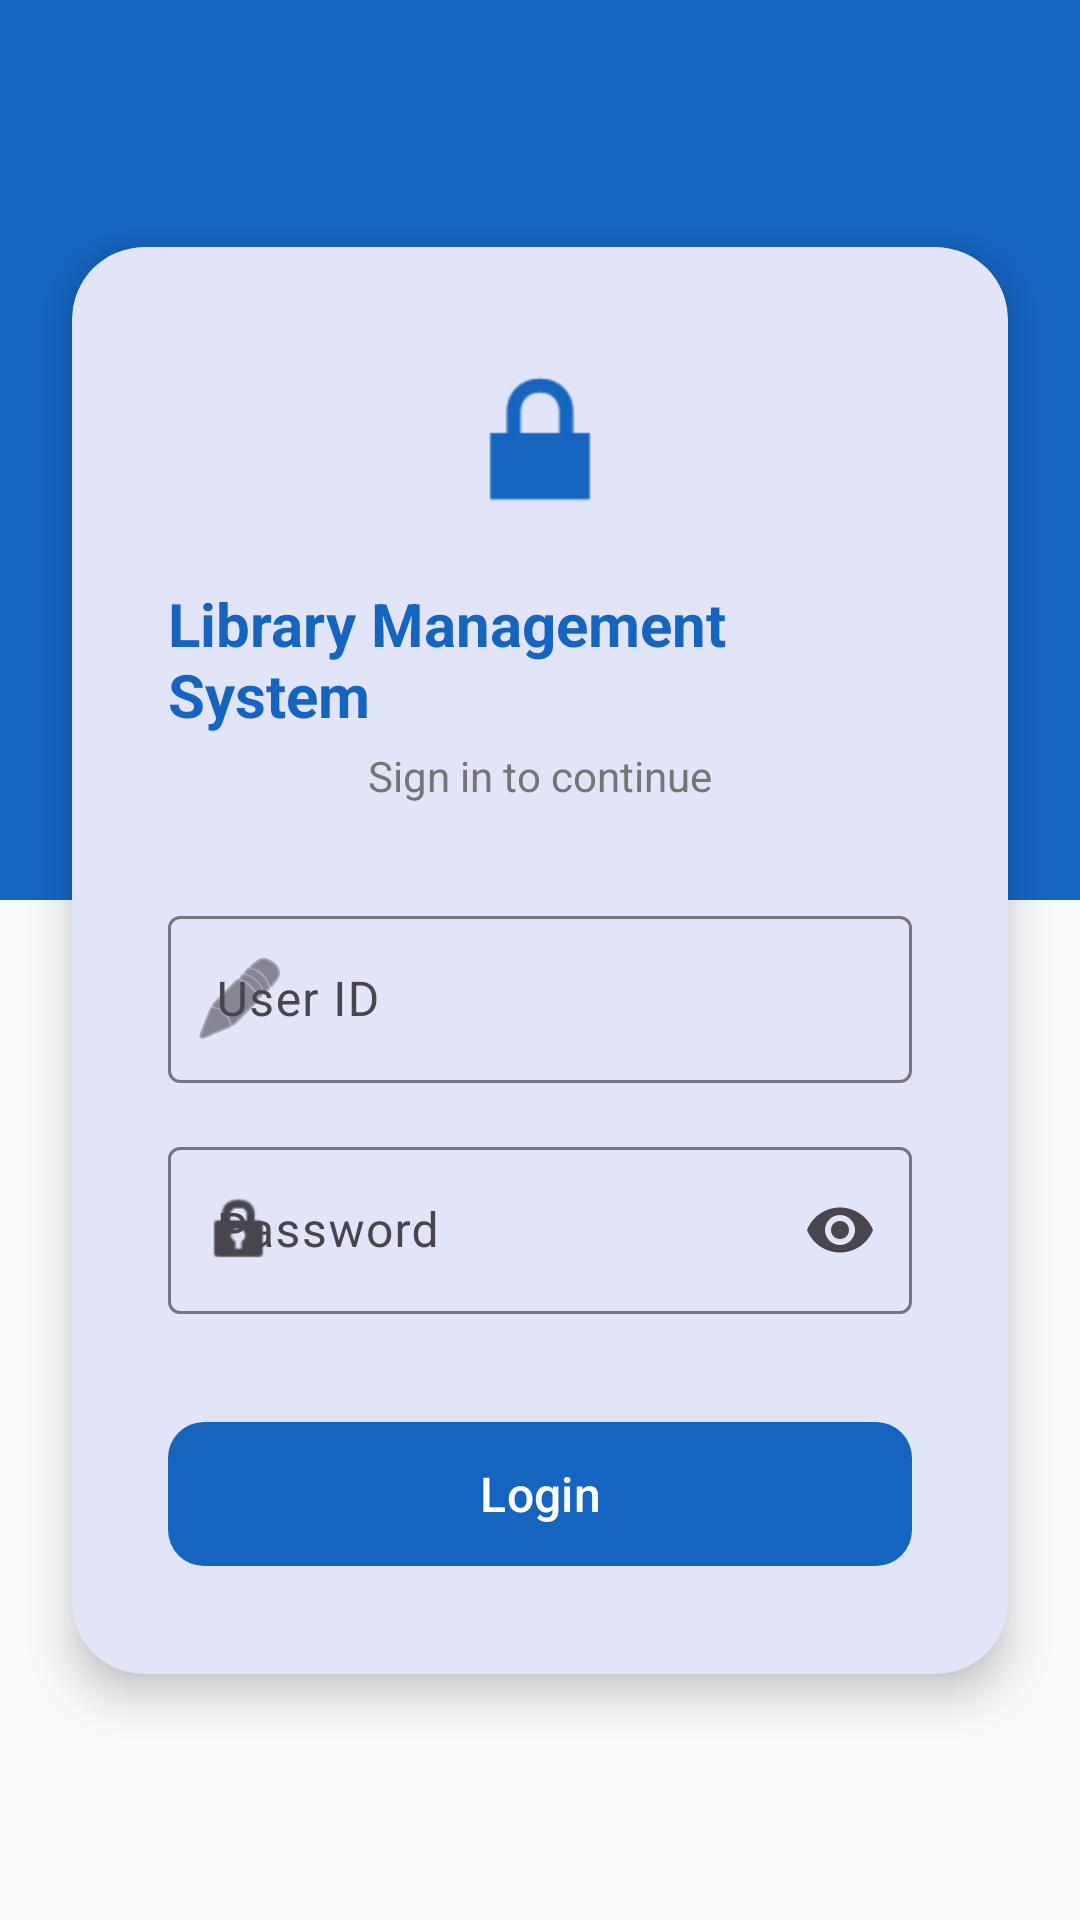

Icons on this 1080×1920 Android screen, each with its box as (x1, y1, x2, y2):
lock: (489, 377, 591, 501)
